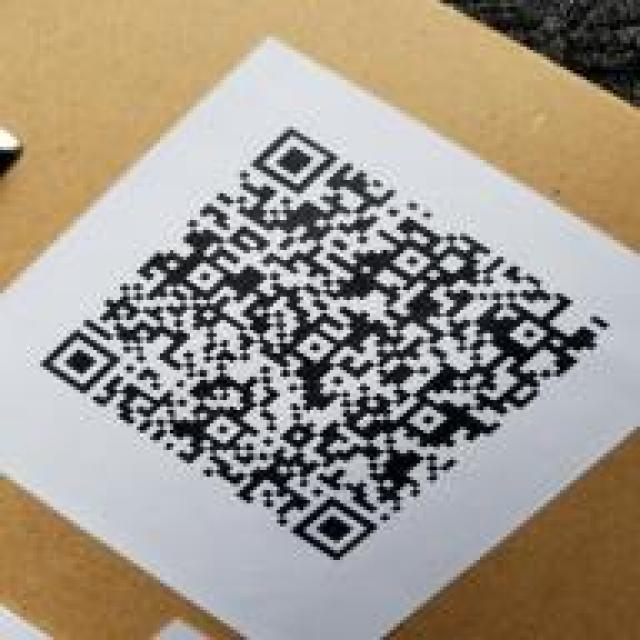qr_code: (39, 126, 611, 561)
